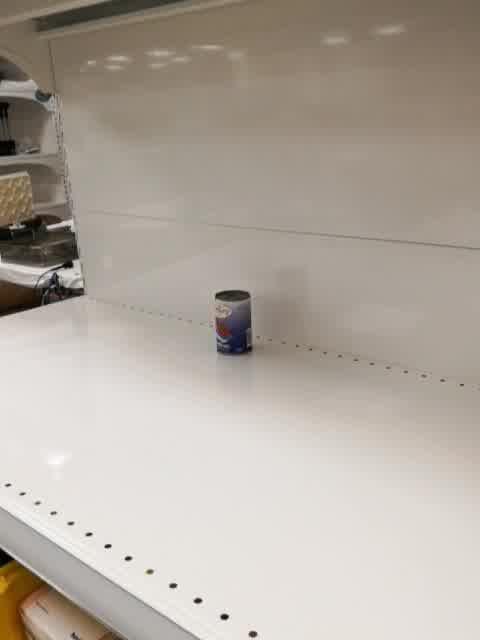sardine: (214, 288, 255, 357)
